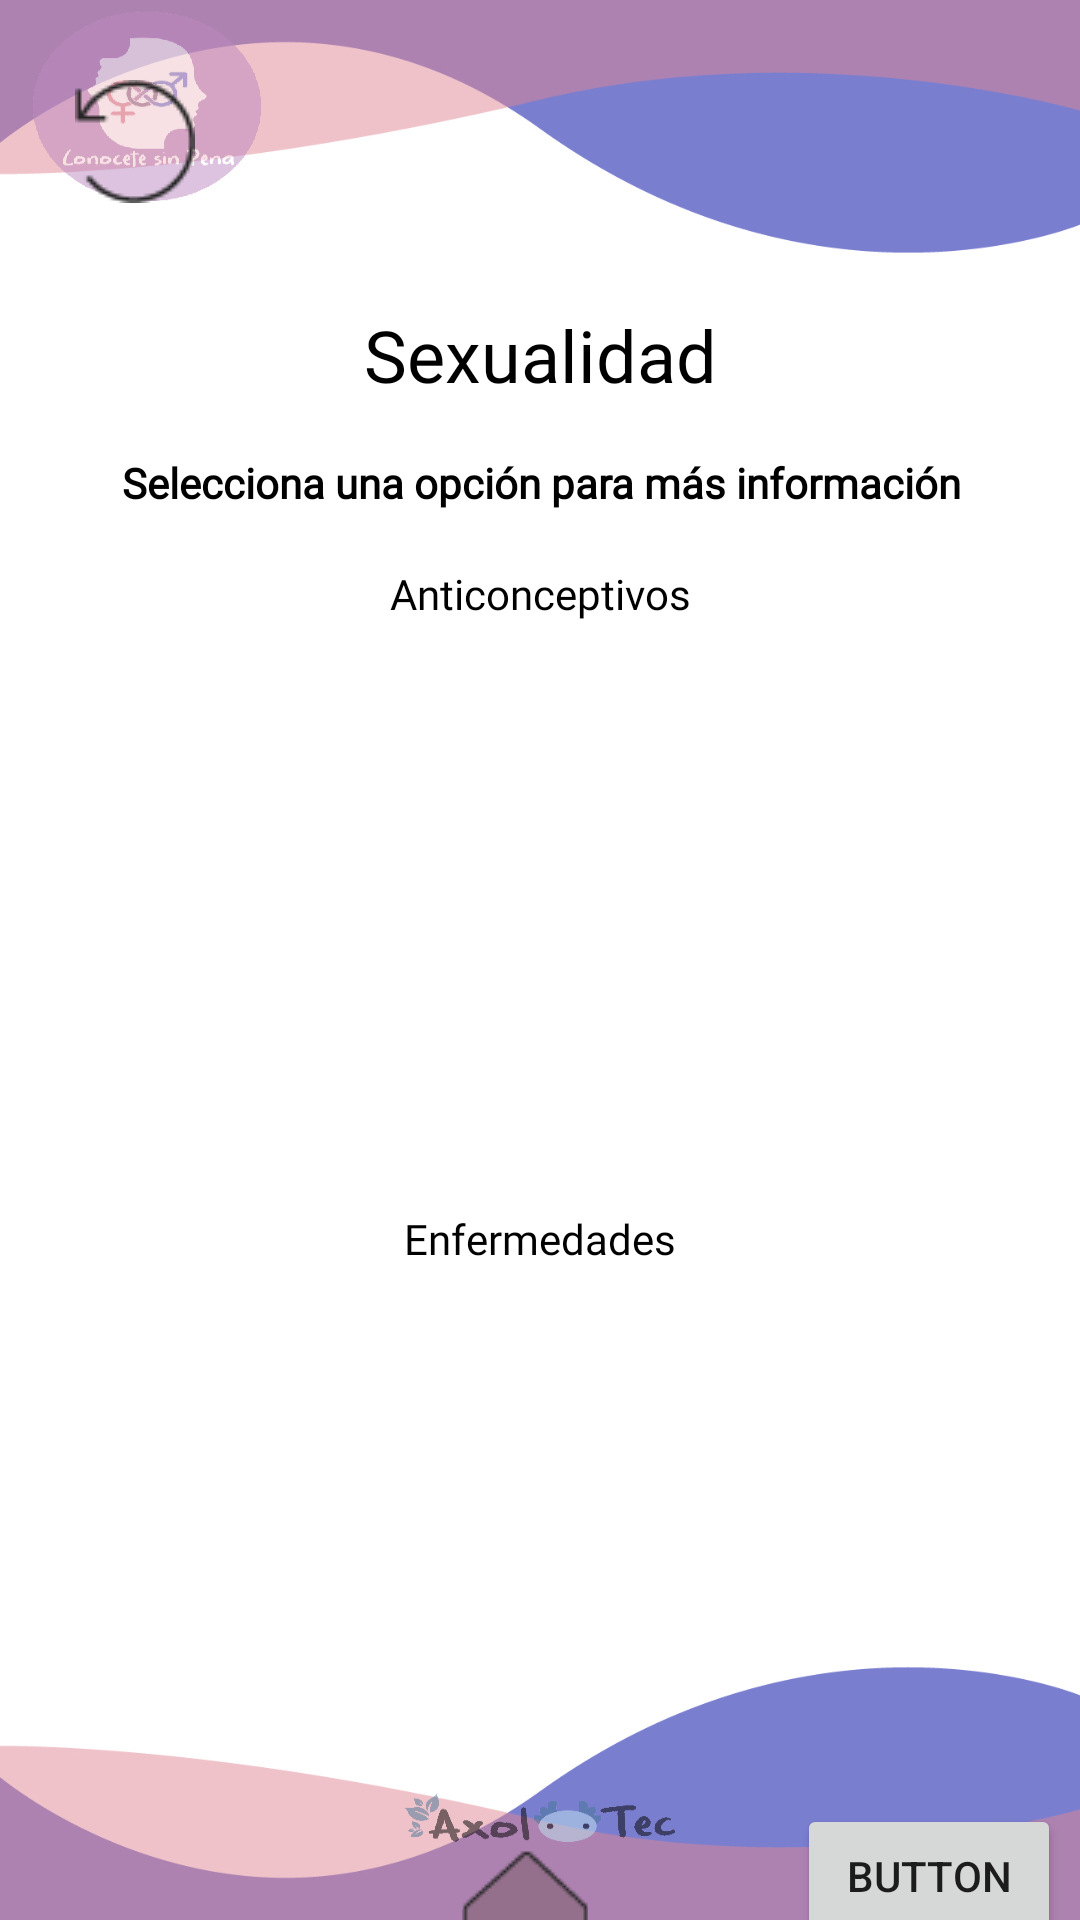

Where to tap for icons on this 1080 × 1920 app screen, as (x,y):
btnretorno: (135,141)
